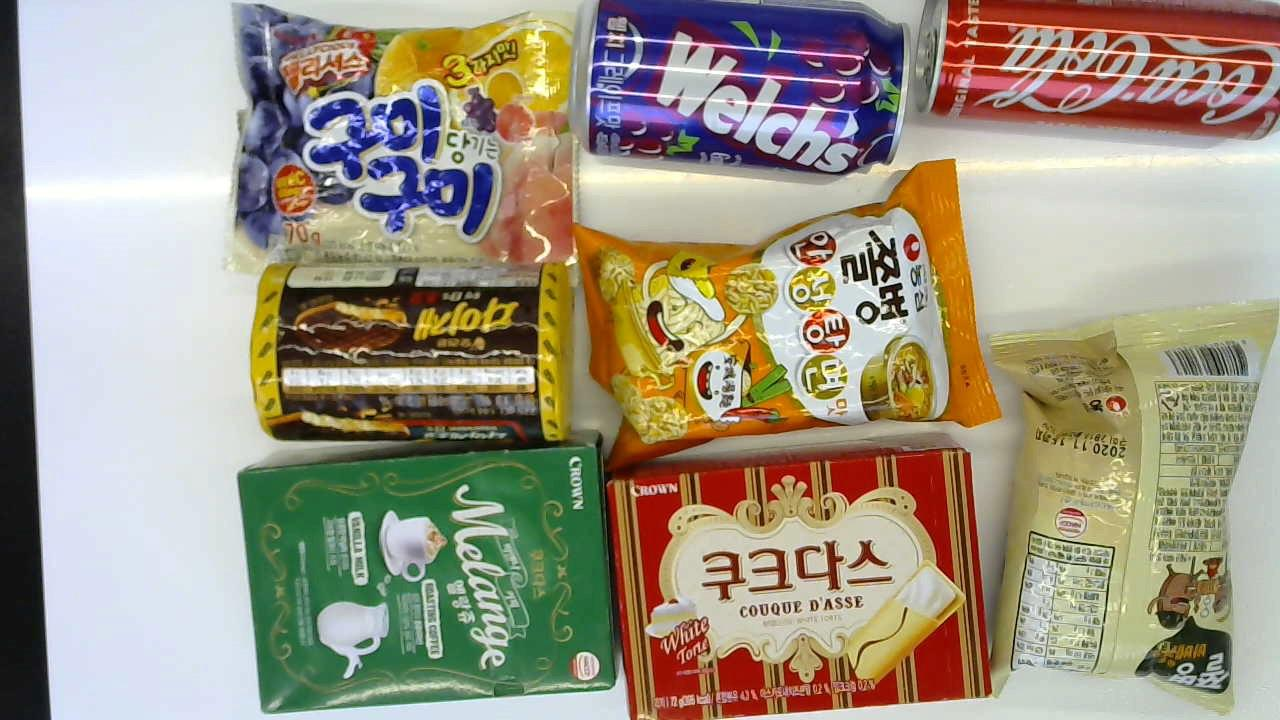coke: (923, 0, 1280, 142)
couque_coffee: (238, 432, 620, 709)
couque_white: (603, 434, 997, 710)
diget_choco: (246, 253, 579, 453)
gumi_gumi: (219, 0, 594, 265)
jjolbyung_noodle: (576, 164, 992, 456)
jjolbyung_ori: (981, 283, 1277, 714)
welchs: (575, 0, 915, 180)
